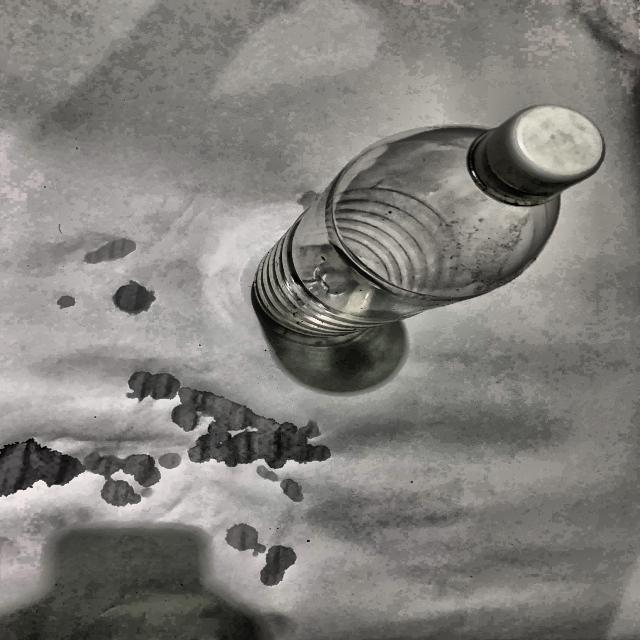Bottles: (242, 96, 616, 347)
